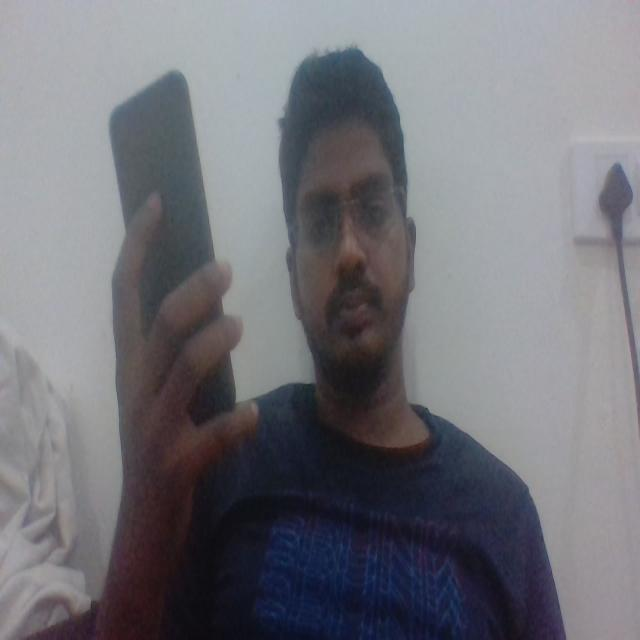Phone: (105, 67, 241, 426)
